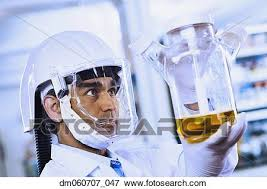Indian_Male: (60, 58, 132, 141)
